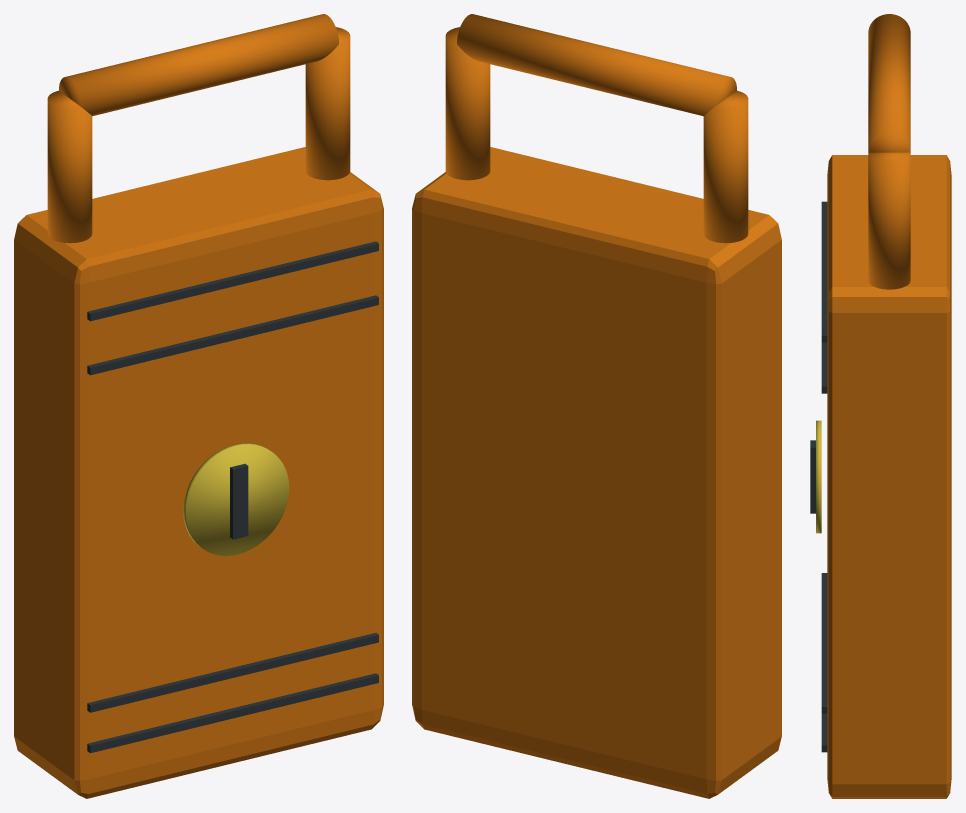
3 views of the same model, side by side, from view 1: azimuth 30°, elevation 25°; view 2: azimuth 150°, elevation 25°; view 3: azimuth 270°, elevation 25° (orthographic). The views are drawn at different scales.
Visible parts, largest first — view 1: TI074 / portable rectangular payload housing, TI074 / carrying handle, TI074 / fictional hazard medallion, TI074 / handle upright, TI074 / handle upright.001, TI074 / recessed case seam.001, TI074 / recessed case seam, TI074 / recessed case seam.002, TI074 / recessed case seam.003, TI074 / hazard upright; view 2: TI074 / portable rectangular payload housing, TI074 / carrying handle, TI074 / handle upright, TI074 / handle upright.001; view 3: TI074 / portable rectangular payload housing, TI074 / handle upright.001, TI074 / carrying handle, TI074 / recessed case seam.003, TI074 / recessed case seam.001, TI074 / fictional hazard medallion, TI074 / hazard upright, TI074 / recessed case seam.002.
Part boxes in pixels (x1=…): TI074 / portable rectangular payload housing: x1=14, y1=147, x2=383, y2=798; TI074 / carrying handle: x1=59, y1=14, x2=338, y2=116; TI074 / fictional hazard medallion: x1=183, y1=443, x2=289, y2=555; TI074 / handle upright: x1=47, y1=90, x2=92, y2=243; TI074 / handle upright.001: x1=305, y1=27, x2=350, y2=180; TI074 / recessed case seam.001: x1=87, y1=633, x2=378, y2=712; TI074 / recessed case seam: x1=87, y1=673, x2=378, y2=753; TI074 / recessed case seam.002: x1=87, y1=295, x2=378, y2=375; TI074 / recessed case seam.003: x1=87, y1=241, x2=378, y2=321; TI074 / hazard upright: x1=230, y1=463, x2=248, y2=539; TI074 / portable rectangular payload housing: x1=412, y1=147, x2=781, y2=798; TI074 / carrying handle: x1=457, y1=14, x2=736, y2=116; TI074 / handle upright: x1=703, y1=90, x2=748, y2=243; TI074 / handle upright.001: x1=445, y1=27, x2=490, y2=180; TI074 / portable rectangular payload housing: x1=827, y1=155, x2=951, y2=798; TI074 / handle upright.001: x1=868, y1=152, x2=910, y2=289; TI074 / carrying handle: x1=868, y1=14, x2=910, y2=152; TI074 / recessed case seam.003: x1=821, y1=201, x2=827, y2=342; TI074 / recessed case seam.001: x1=821, y1=573, x2=827, y2=713; TI074 / fictional hazard medallion: x1=816, y1=420, x2=821, y2=533; TI074 / hazard upright: x1=810, y1=440, x2=815, y2=513; TI074 / recessed case seam.002: x1=821, y1=342, x2=827, y2=393.
Bounding box in the file's own units: 1.2 × 2.58 × 0.5.
